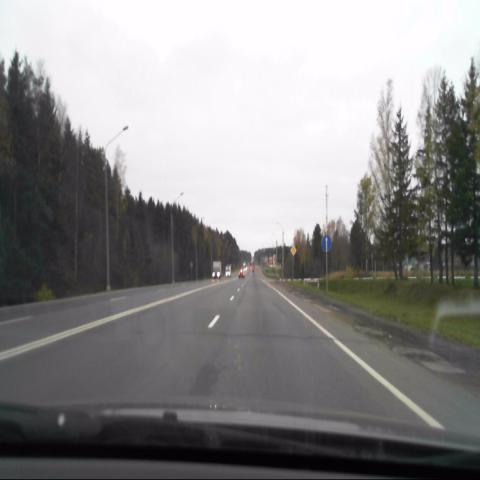2_1: (290, 245, 296, 256)
4_1_1: (321, 234, 331, 253)
